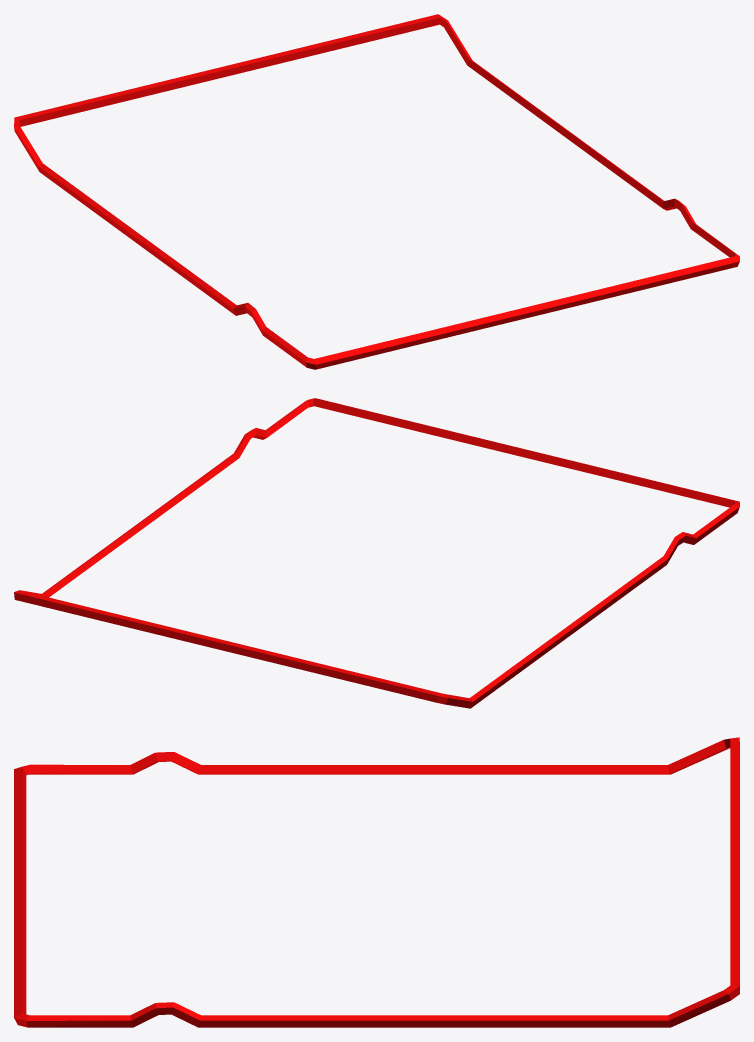
Rendered from original-54.obj.
3 renders of one model, top to bottom at view 1: azimuth 30°, elevation 25°; view 2: azimuth 150°, elevation 25°; view 3: azimuth 270°, elevation 25°, orthographic. The views are drawn at different scales.
Visible parts, largest first — view 1: mesh50/mesh50-geometry#mesh50-geometry; view 2: mesh50/mesh50-geometry#mesh50-geometry; view 3: mesh50/mesh50-geometry#mesh50-geometry.
Part boxes in pixels (x1,y1,x2,y2): mesh50/mesh50-geometry#mesh50-geometry: [14, 14, 739, 369]; mesh50/mesh50-geometry#mesh50-geometry: [14, 398, 739, 708]; mesh50/mesh50-geometry#mesh50-geometry: [14, 737, 739, 1027].
Size of the model in its own units: 0.4476 by 0.0324 by 0.5391.
